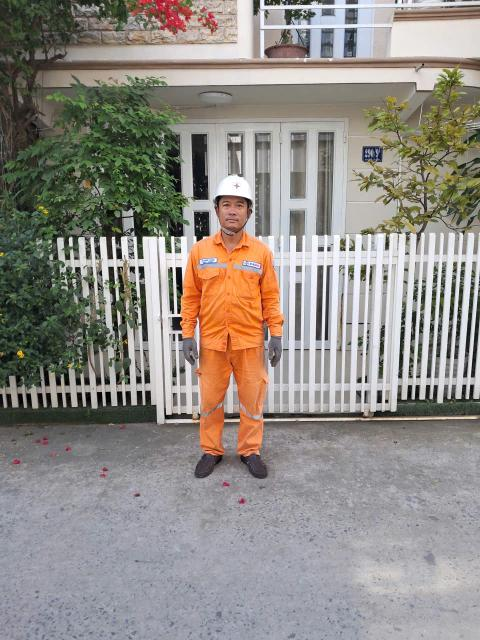gloves: (264, 328, 288, 367), (177, 331, 198, 368)
helmet: (211, 168, 259, 205)
shoes: (232, 447, 273, 481), (191, 444, 223, 482)
